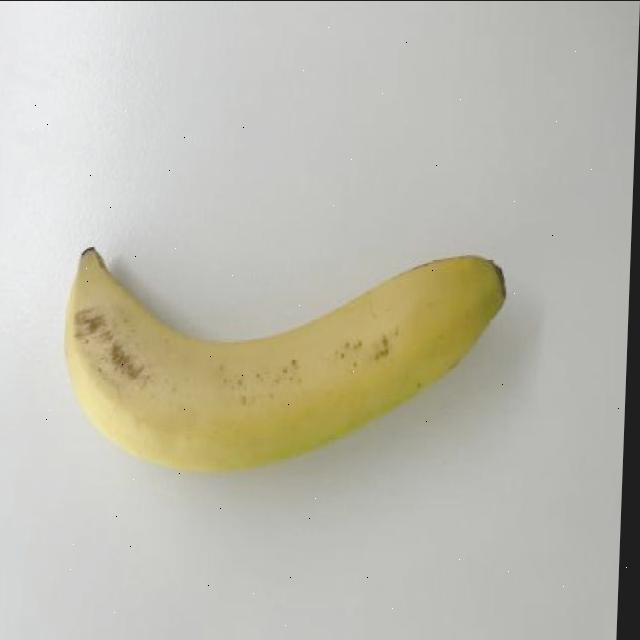banana: (49, 227, 524, 487)
